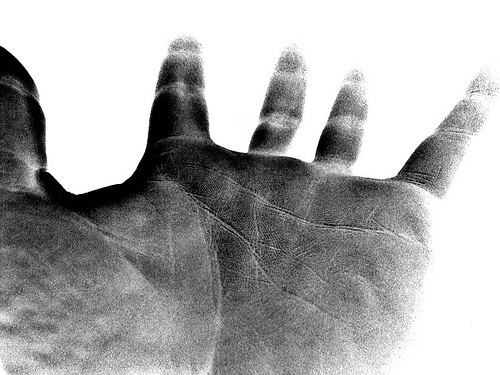palm: (49, 134, 427, 363)
